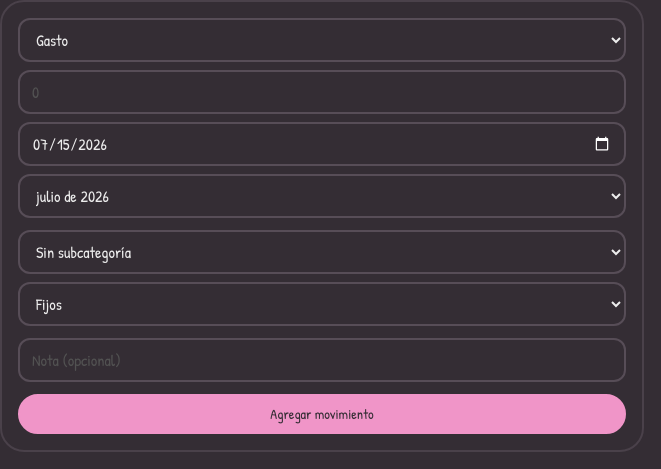
Test: TransactionForm › re-shows the bucket select if the subcategory is cleared back to 'Sin subcategoría'
This screenshot has width=661, height=469.
Select "Luz" in the dropdown named "Subcategoría" at (322, 252), box [18, 230, 626, 274]
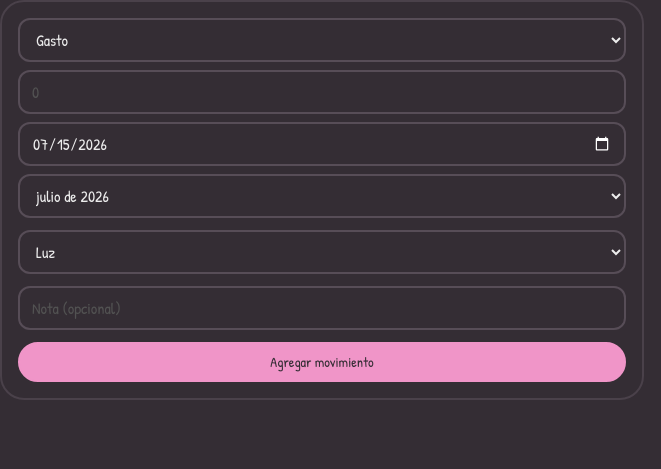
Result: the dropdown labelled "Bucket" is gone
Select "Sin subcategoría" in the dropdown named "Subcategoría" at (322, 252), box [18, 230, 626, 274]
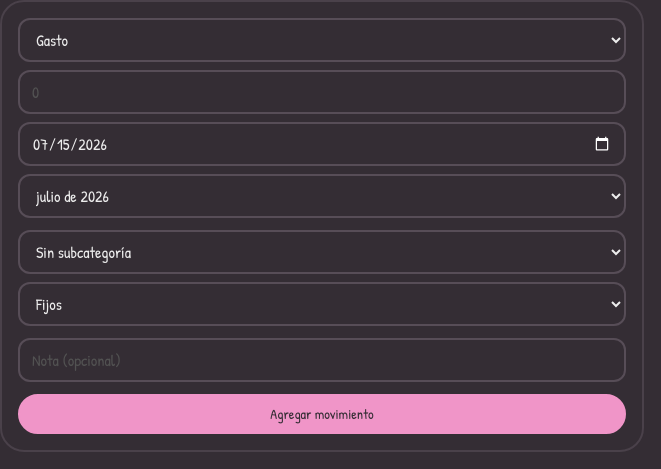
Result: the dropdown named "Bucket" is shown at [18, 282, 626, 326]
